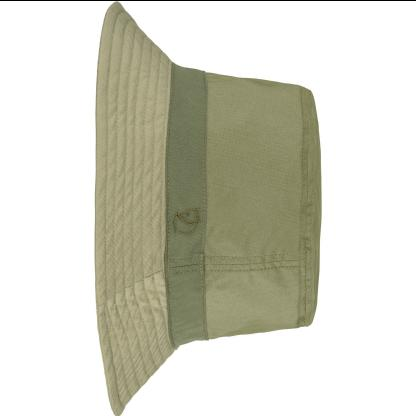hat: (94, 4, 328, 416)
